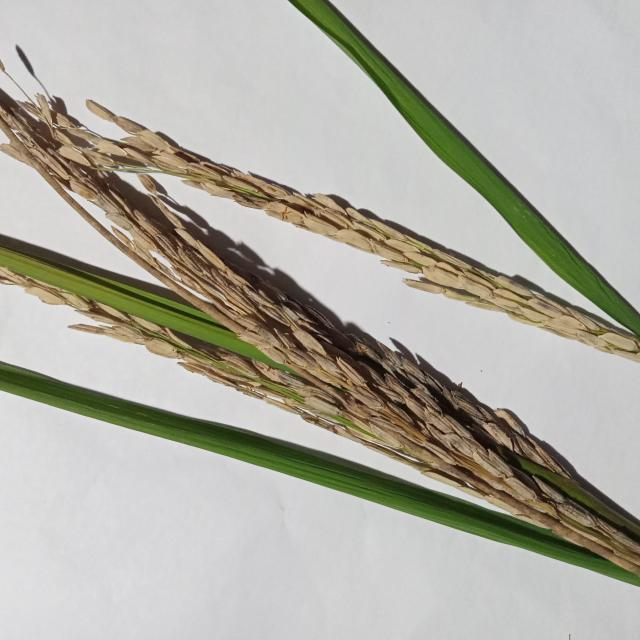Neck_Blast: (0, 75, 640, 592), (73, 95, 640, 359)
